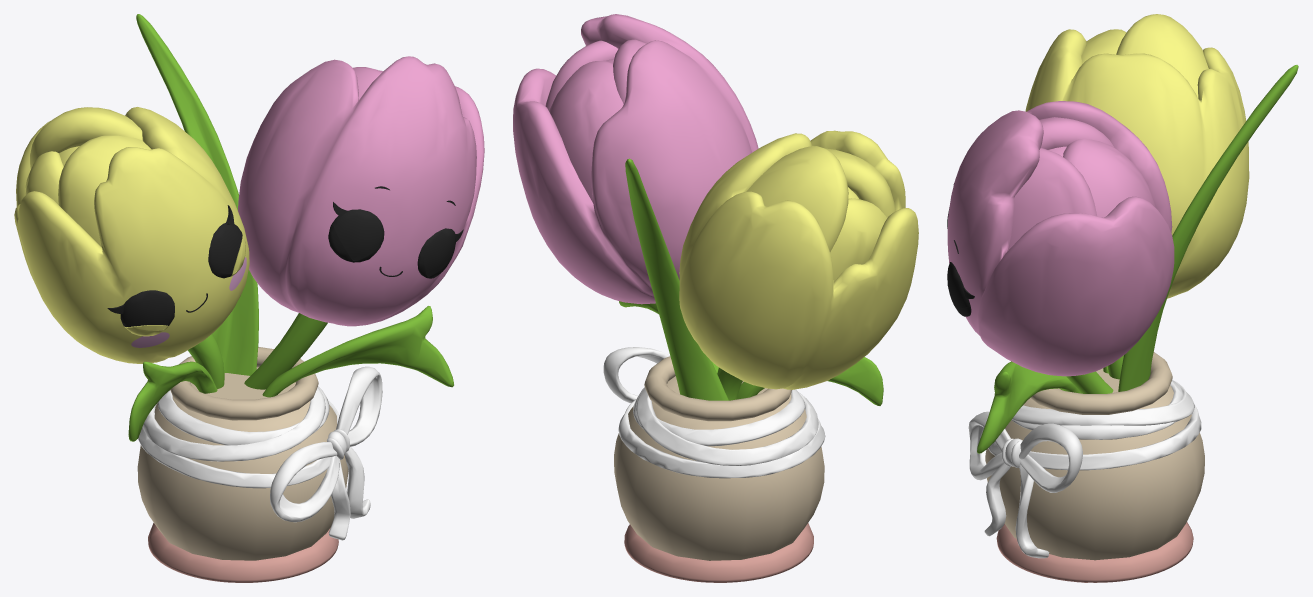
Rendered from tulips.glb.
3 renders of one model, left to right at view 1: azimuth 30°, elevation 25°; view 2: azimuth 150°, elevation 25°; view 3: azimuth 270°, elevation 25°, orthographic. The views are drawn at different scales.
Visible parts, largest first — view 1: Group7198 (×2), Group64430, object 26, Group21260, Group36608 (×4), object 28, object 27; view 2: Group7198 (×2), object 26, Group21260, Group64430, object 28, object 27; view 3: Group7198 (×2), object 26, Group21260, Group64430, object 28, object 27, Group36608.
Part boxes in pixels (x1,y1,x2,y2): Group7198 (×2): (14, 56, 484, 363); Group64430: (128, 14, 453, 441); object 26: (137, 367, 348, 560); Group21260: (138, 366, 382, 540); Group36608 (×4): (120, 209, 455, 326); object 28: (148, 523, 338, 582); object 27: (170, 347, 318, 420); Group7198 (×2): (513, 14, 918, 389); object 26: (614, 376, 824, 560); Group21260: (603, 347, 825, 478); Group64430: (619, 158, 883, 405); object 28: (624, 523, 813, 582); object 27: (644, 356, 791, 421); Group7198 (×2): (947, 14, 1249, 376); object 26: (985, 368, 1204, 560); Group21260: (968, 380, 1201, 558); Group64430: (977, 65, 1298, 453); object 28: (996, 522, 1193, 582); object 27: (1030, 352, 1172, 414); Group36608: (947, 262, 971, 316).
Size of the model in its own units: 3.23 by 3.56 by 2.31.
